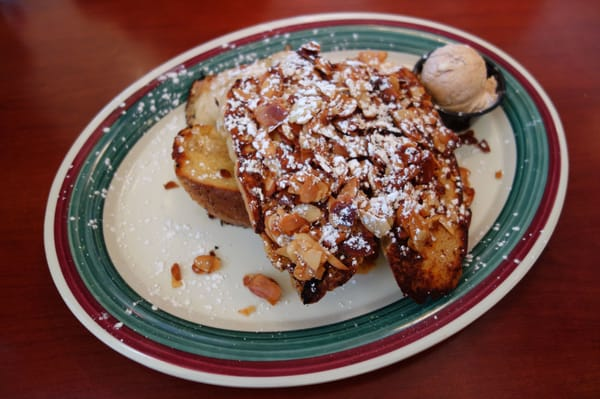curry: (1, 1, 594, 393)
